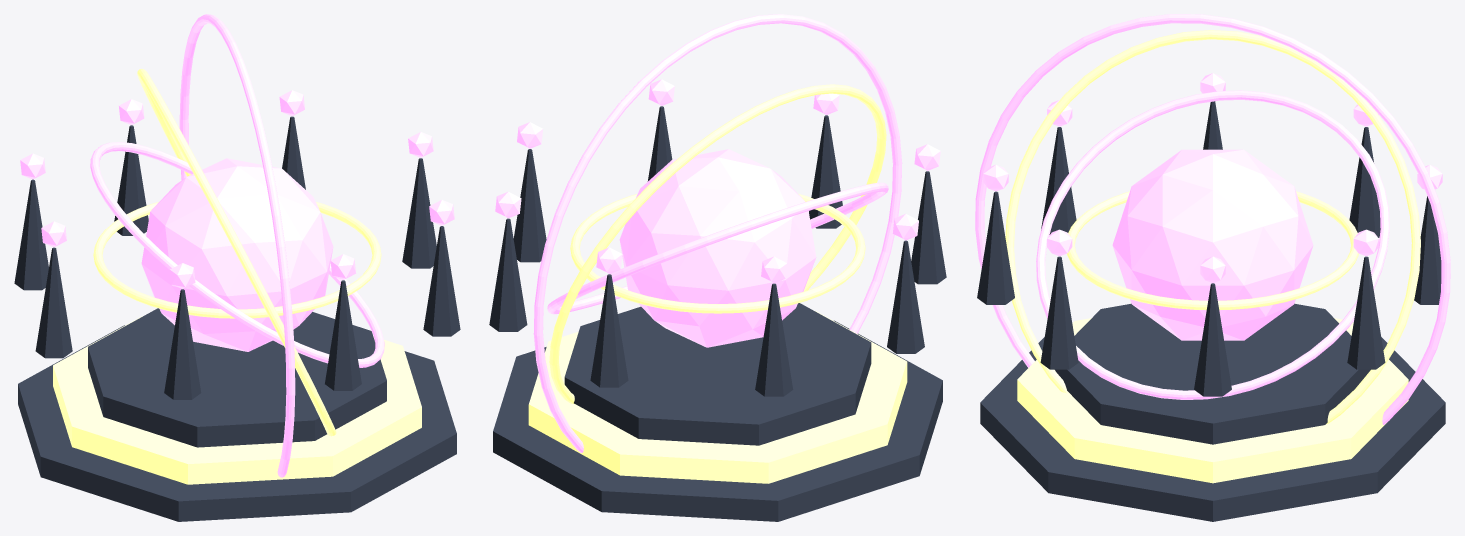
File: gpu-blender-v30.glb
The picture shows the model from 3 angles, left to right: view 1: azimuth 30°, elevation 25°; view 2: azimuth 150°, elevation 25°; view 3: azimuth 270°, elevation 25°; orthographic projection. The views are drawn at different scales.
Parts seen in each view (by area): view 1: Cylinder.002, SovereignCore_certpath-roadmap-studio, Cylinder, Cylinder.001, Torus.003, Torus.001, Torus.002, Torus, Cone.004, Cone.007, Cone.005, Cone.006 (+12 smaller); view 2: Cylinder.002, SovereignCore_certpath-roadmap-studio, Cylinder, Cylinder.001, Torus.003, Torus.002, Torus.001, Torus, Cone.002, Cone.003, Cone.001, Cone.004 (+11 smaller); view 3: SovereignCore_certpath-roadmap-studio, Cylinder.002, Cylinder, Cylinder.001, Torus.003, Torus.002, Torus.001, Torus, Cone, Cone.001, Cone.007, Cone.006 (+8 smaller).
Part boxes in pixels (x1=…): Cylinder.002: x1=88, y1=308, x2=386, y2=447; SovereignCore_certpath-roadmap-studio: x1=141, y1=158, x2=333, y2=351; Cylinder: x1=18, y1=325, x2=456, y2=521; Cylinder.001: x1=53, y1=316, x2=421, y2=484; Torus.003: x1=179, y1=14, x2=295, y2=477; Torus.001: x1=90, y1=142, x2=384, y2=367; Torus.002: x1=137, y1=69, x2=336, y2=436; Torus: x1=93, y1=202, x2=381, y2=318; Cone.004: x1=35, y1=247, x2=72, y2=358; Cone.007: x1=423, y1=226, x2=460, y2=336; Cone.005: x1=164, y1=289, x2=201, y2=399; Cone.006: x1=325, y1=280, x2=361, y2=390; Cylinder.002: x1=564, y1=303, x2=871, y2=445; SovereignCore_certpath-roadmap-studio: x1=619, y1=149, x2=816, y2=347; Cylinder: x1=493, y1=320, x2=942, y2=521; Cylinder.001: x1=528, y1=311, x2=907, y2=483; Torus.003: x1=533, y1=14, x2=902, y2=452; Torus.002: x1=549, y1=84, x2=886, y2=403; Torus.001: x1=547, y1=182, x2=888, y2=314; Torus: x1=570, y1=193, x2=865, y2=313; Cone.002: x1=590, y1=274, x2=628, y2=387; Cone.003: x1=755, y1=283, x2=793, y2=396; Cone.001: x1=489, y1=218, x2=527, y2=331; Cone.004: x1=887, y1=240, x2=924, y2=353; SovereignCore_certpath-roadmap-studio: x1=1112, y1=149, x2=1313, y2=340; Cylinder.002: x1=1055, y1=303, x2=1370, y2=444; Cylinder: x1=980, y1=337, x2=1445, y2=521; Cylinder.001: x1=1017, y1=318, x2=1408, y2=483; Torus.003: x1=975, y1=14, x2=1450, y2=424; Torus.002: x1=1005, y1=30, x2=1420, y2=423; Torus.001: x1=1036, y1=90, x2=1389, y2=399; Torus: x1=1067, y1=191, x2=1358, y2=310; Cone: x1=1194, y1=283, x2=1231, y2=396; Cone.001: x1=1347, y1=256, x2=1385, y2=369; Cone.007: x1=1040, y1=256, x2=1078, y2=369; Cone.006: x1=977, y1=191, x2=1014, y2=304.
Size of the model in its own units: 4.41 by 4.7 by 4.49.
